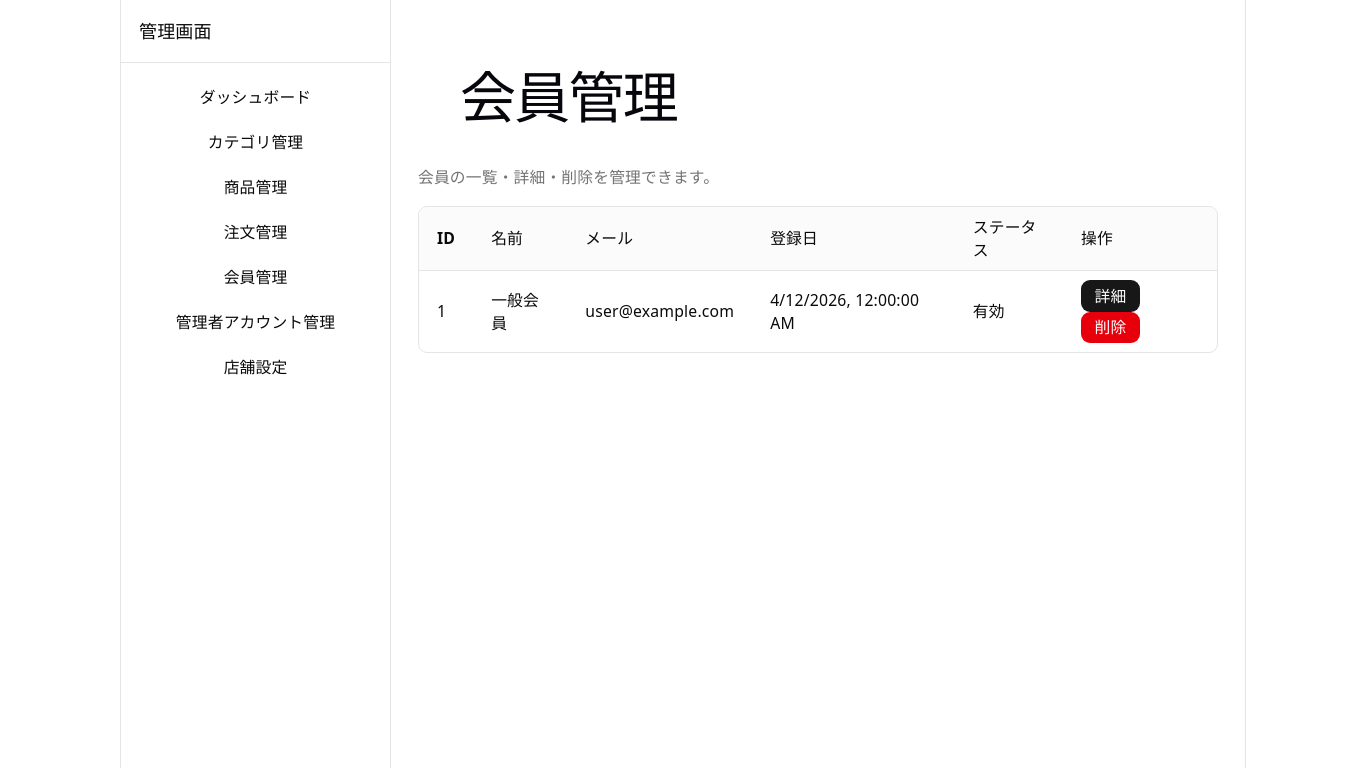
it: AdminMembersPage › 詳細表示と削除操作が動作すること
Expected: the text "user@example.com" is shown, [567, 271, 752, 352]
Click the button "詳細" at (1110, 296), box [1081, 280, 1140, 312]
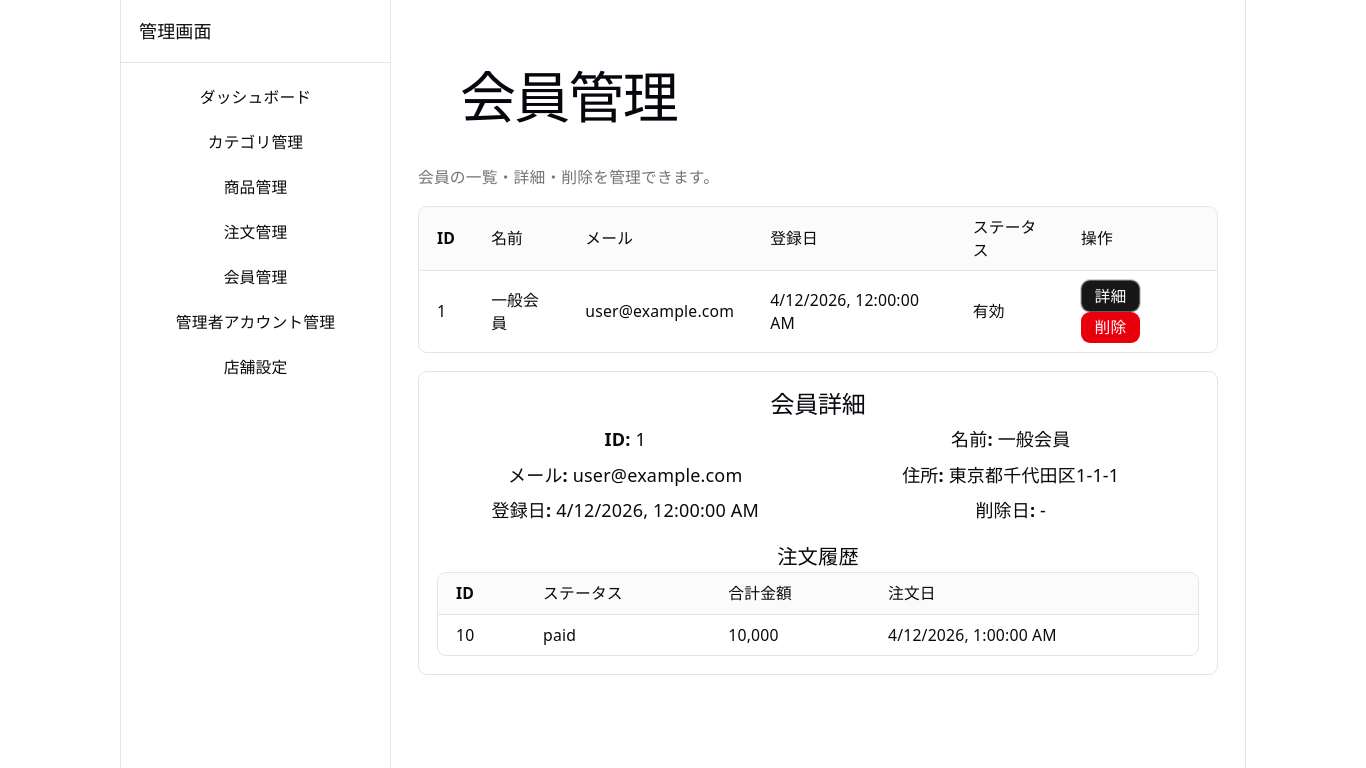
Result: the text "東京都千代田区1-1-1" is shown at [949, 463, 1119, 487]
Click the button "削除" at (1110, 327), box [1081, 312, 1140, 343]
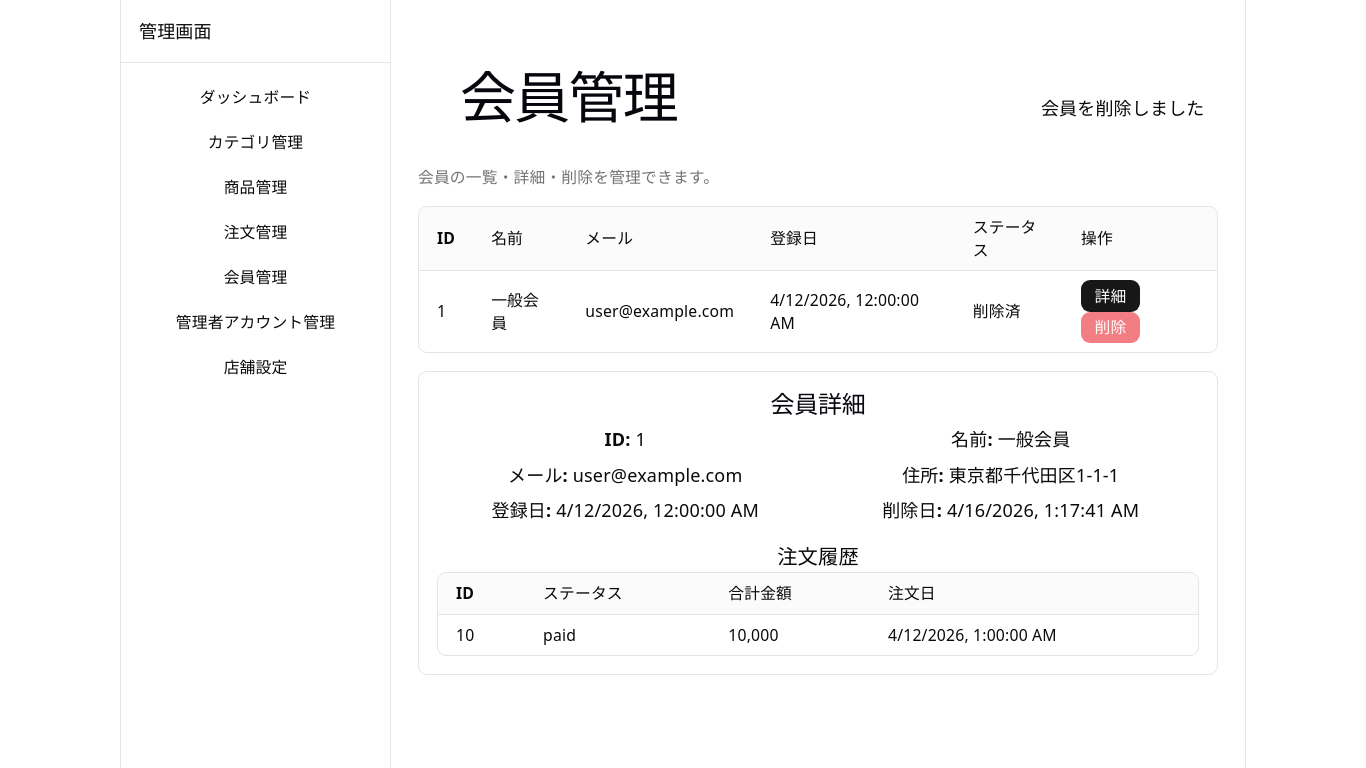
Result: the text "会員を削除しました" is shown at [1041, 96, 1204, 120]
